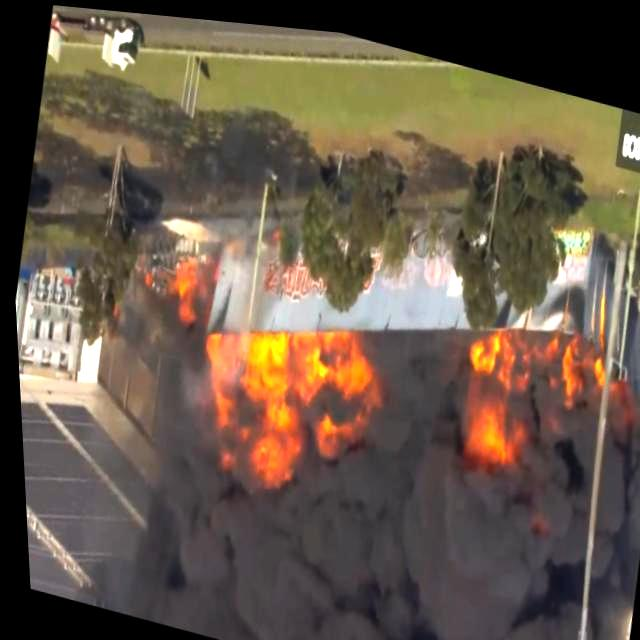fire: (175, 294, 389, 512), (444, 318, 534, 460), (553, 325, 615, 391)
